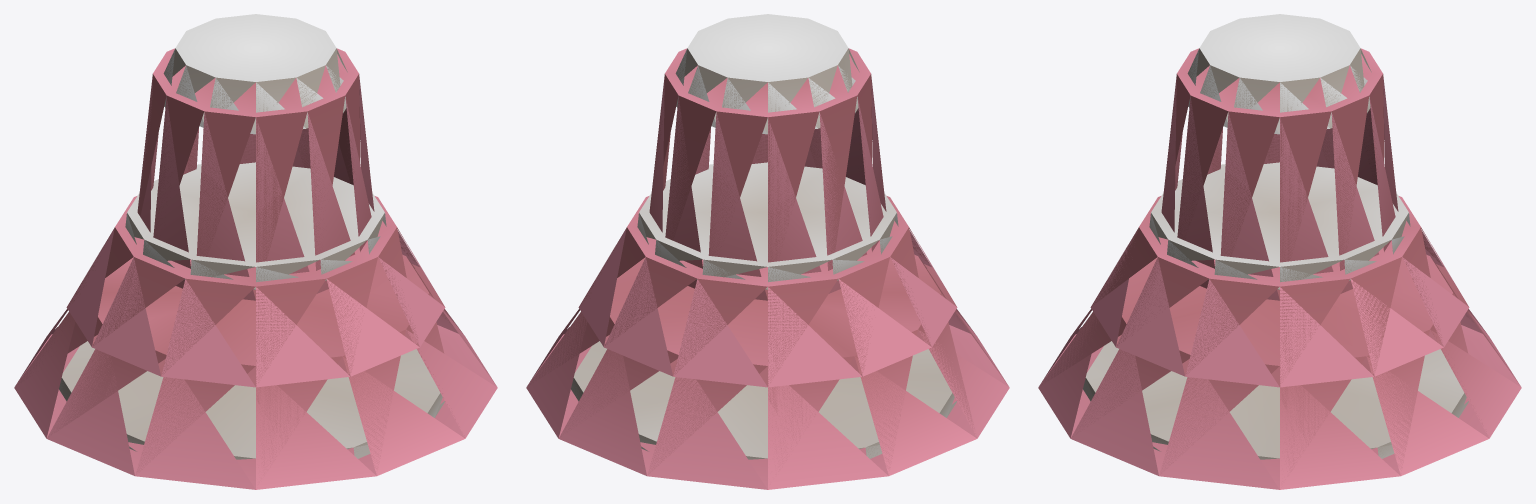
The model's file is p-girl-body.glb.
3 renders of one model, left to right at view 1: azimuth 30°, elevation 25°; view 2: azimuth 150°, elevation 25°; view 3: azimuth 270°, elevation 25°, orthographic.
Parts seen in each view (by area): view 1: player_p-girl-body; view 2: player_p-girl-body; view 3: player_p-girl-body.
Part boxes in pixels (<box>): player_p-girl-body: <box>14,14,497,489</box>; player_p-girl-body: <box>526,14,1009,489</box>; player_p-girl-body: <box>1038,14,1521,489</box>.
Size of the model in its own units: 0.6 by 0.471 by 0.6.
